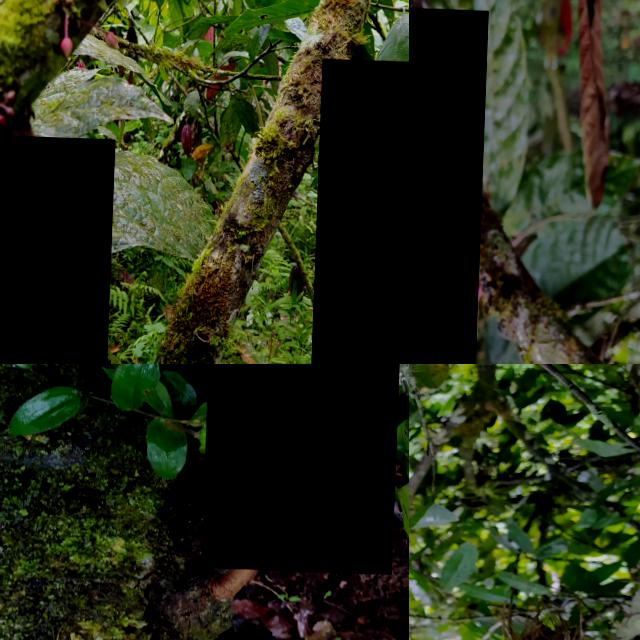Fitoftora: (314, 55, 409, 364), (409, 2, 488, 364), (0, 134, 117, 364)
Monilia: (204, 364, 405, 571)
